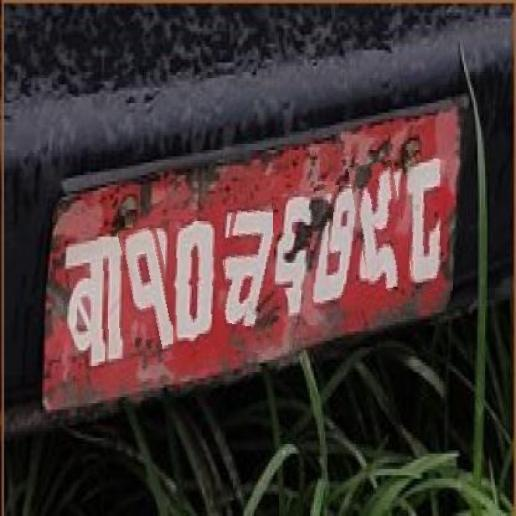0: (170, 218, 221, 354)
1: (125, 225, 178, 364)
6: (274, 194, 317, 328)
7: (314, 184, 358, 311)
8: (406, 156, 451, 292)
9: (354, 161, 410, 308)
ba: (62, 228, 132, 372)
cha: (217, 202, 280, 351)
